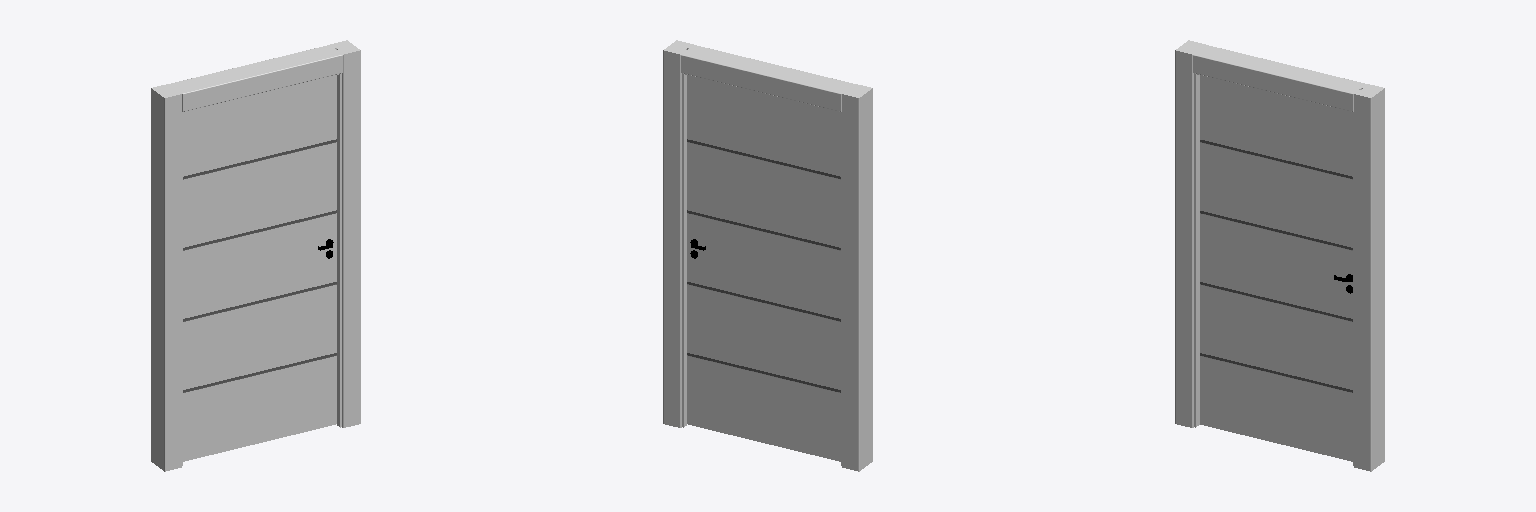
File: porta.obj
3 renders of one model, left to right at view 1: azimuth 30°, elevation 25°; view 2: azimuth 150°, elevation 25°; view 3: azimuth 330°, elevation 25°, orthographic.
Parts seen in each view (by area): view 1: G-No_Name_001, G-No_Name_049, G-No_Name_050, G-No_Name_048; view 2: G-No_Name_001, G-No_Name_049, G-No_Name_050, G-No_Name_048; view 3: G-No_Name_001, G-No_Name_050, G-No_Name_049, G-No_Name_048.
Boxes of the visible parts, <box> form: G-No_Name_001: <box>183,75,336,461</box>; G-No_Name_049: <box>151,84,182,471</box>; G-No_Name_050: <box>330,40,360,427</box>; G-No_Name_048: <box>170,45,342,112</box>; G-No_Name_001: <box>687,75,840,461</box>; G-No_Name_049: <box>841,84,872,471</box>; G-No_Name_050: <box>663,40,693,427</box>; G-No_Name_048: <box>681,45,853,112</box>; G-No_Name_001: <box>1200,75,1352,461</box>; G-No_Name_050: <box>1353,84,1384,471</box>; G-No_Name_049: <box>1175,40,1205,427</box>; G-No_Name_048: <box>1193,45,1365,112</box>.
Size of the model in its own units: 1.22 by 2.22 by 0.15.